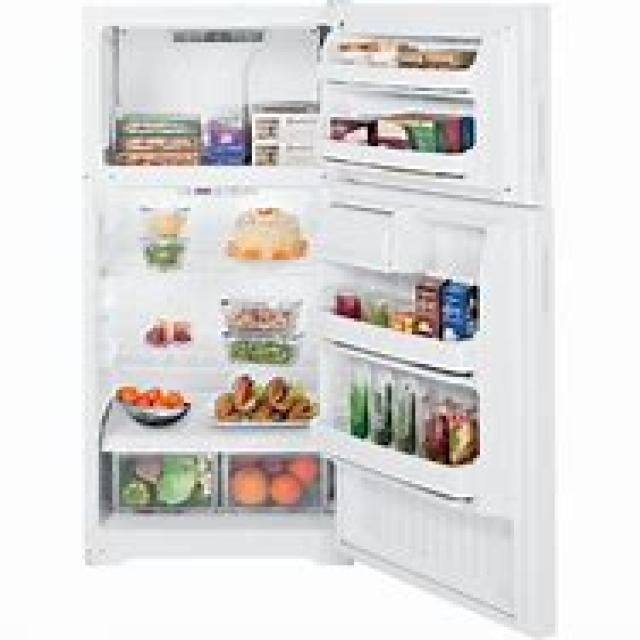fridge: (78, 0, 555, 637)
